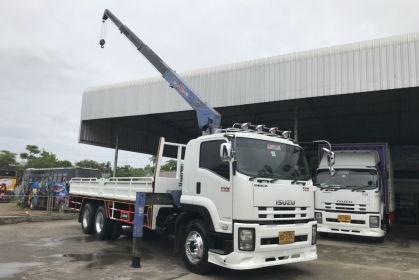truck: (177, 127, 319, 274)
